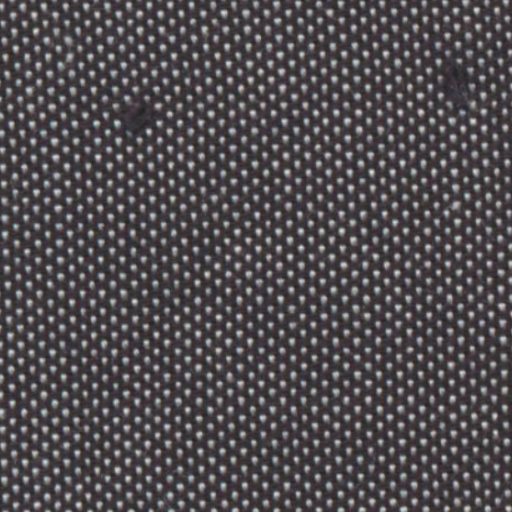MianQiu: (92, 72, 172, 158), (409, 42, 496, 116)
